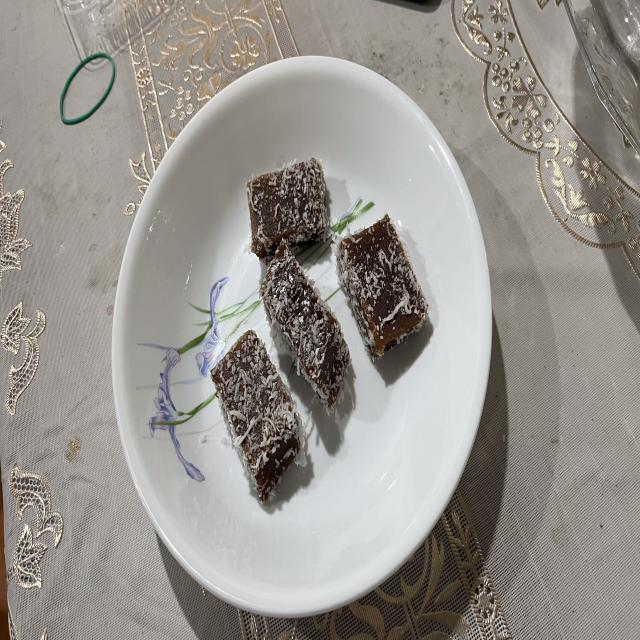kaswi: (211, 331, 304, 502), (260, 244, 350, 409), (336, 213, 428, 360), (248, 158, 328, 260)
